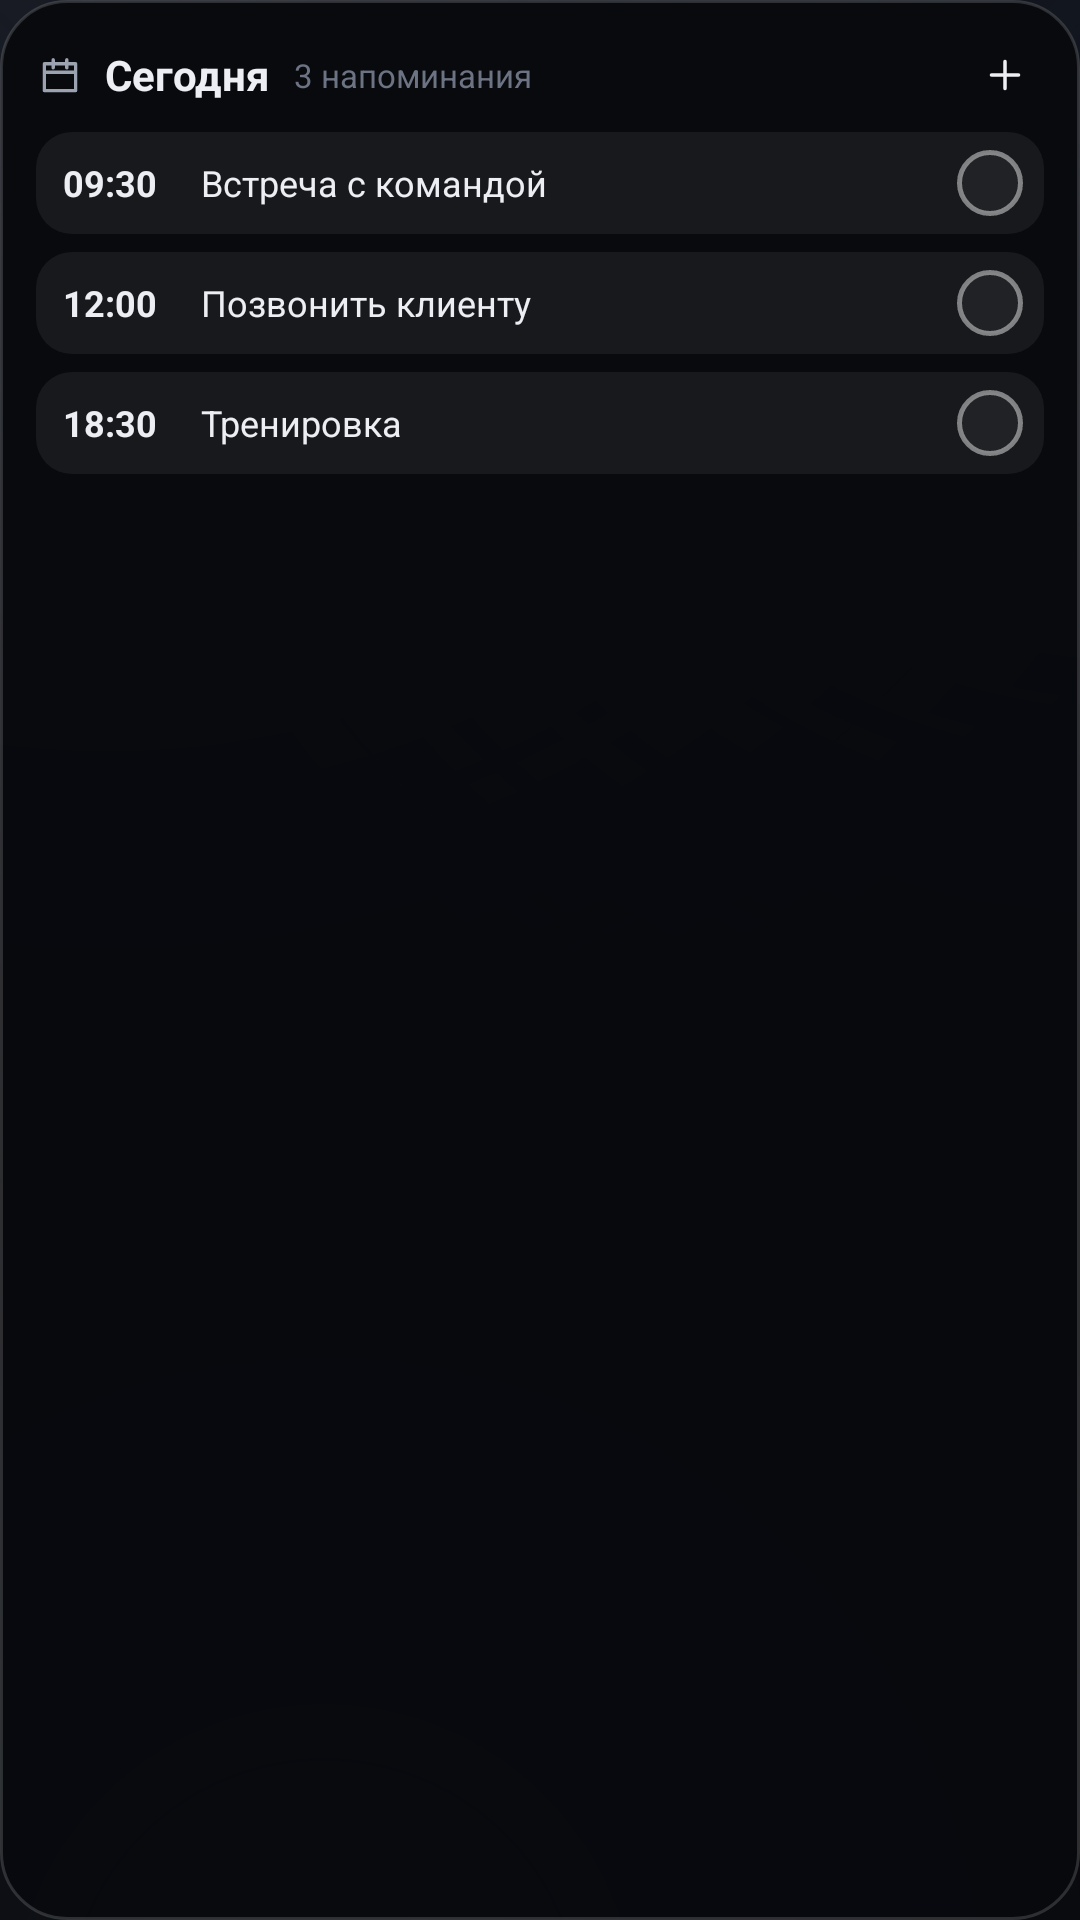

Icon click points for this 1080px×1920px phone screenshot, format [x,y]:
Новое напоминание: [1005,75]
